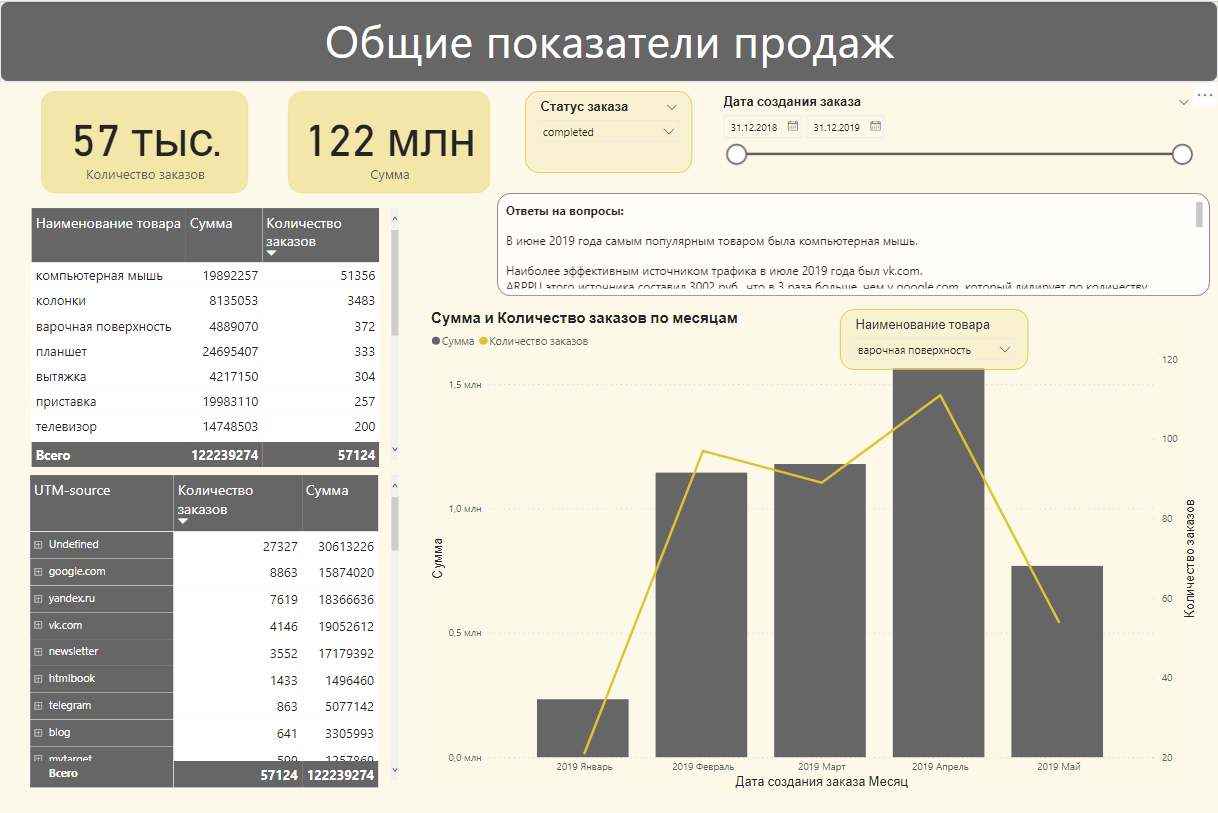

What the dashboard file says about the page in this screenshot:
{"tool":"powerbi","page":{"name":"Общие показатели продаж","canvas":[1500,1000],"ordinal":0},"visuals":[{"type":"tableEx","fields":{"Values":["Sheet1.Наименование товара","Sum(Sheet1.total_amount)","Sheet1.Количество заказов"]},"box":[32,250,464.3,328.8],"z":0},{"type":"pivotTable","fields":{"Values":["Sheet1.Количество заказов","Sum(Sheet1.Сумма)"],"Rows":["Sheet1.UTM-source","Sheet1.UTM-medium","Sheet1.UTM-campaign"]},"box":[32,578.8,464.3,395.3],"z":1000},{"type":"slicer","fields":{"Values":["Sheet1.Статус заказа"]},"box":[646.6,110.8,205.7,101],"z":2000},{"type":"slicer","fields":{"Values":["Sheet1.Дата создания заказа"]},"box":[878.1,110.8,598.5,157.6],"z":3000},{"type":"lineClusteredColumnComboChart","title":"Сумма и Количество заказов по месяцам","fields":{"Category":["Sheet1.Дата создания заказа.Изменение.Иерархия дат.Год","Sheet1.Дата создания заказа.Изменение.Иерархия дат.Месяц"],"Y":["Sum(Sheet1.Сумма)"],"Y2":["Sheet1.Количество заказов"]},"box":[525.9,379.3,950.7,594.8],"z":4000},{"type":"actionButton","box":[0,0,100,40],"z":5000},{"type":"slicer","fields":{"Values":["Sheet1.Наименование товара"]},"box":[1034.5,379.3,231.5,75.1],"z":6000},{"type":"card","fields":{"Values":["Sum(Sheet1.Сумма)"]},"box":[354.7,110.8,248.8,125.6],"z":7000},{"type":"card","fields":{"Values":["Sheet1.Количество заказов"]},"box":[50.5,110.8,254.9,125.6],"z":8000},{"type":"textbox","box":[0,0,1500,99.8],"z":9000},{"type":"textbox","box":[612.1,236.5,878.1,126.8],"z":10000}]}

Visuals, with their boxes in screenshot pixels (x1, y1, x2, y2), scaled from the page's 1500x1000 canvas onto the 1218x813 screenshot:
tableEx - Sheet1.Наименование товара x Sum(Sheet1.total_amount): left=26, top=203, right=403, bottom=471
pivotTable - Sheet1.Количество заказов x Sum(Sheet1.Сумма): left=26, top=471, right=403, bottom=792
slicer - Sheet1.Статус заказа: left=525, top=90, right=692, bottom=172
slicer - Sheet1.Дата создания заказа: left=713, top=90, right=1199, bottom=218
"Сумма и Количество заказов по месяцам" lineClusteredColumnComboChart: left=427, top=308, right=1199, bottom=792
actionButton: left=0, top=0, right=81, bottom=33
slicer - Sheet1.Наименование товара: left=840, top=308, right=1028, bottom=369
card - Sum(Sheet1.Сумма): left=288, top=90, right=490, bottom=192
card - Sheet1.Количество заказов: left=41, top=90, right=248, bottom=192
textbox: left=0, top=0, right=1217, bottom=81
textbox: left=497, top=192, right=1210, bottom=295
